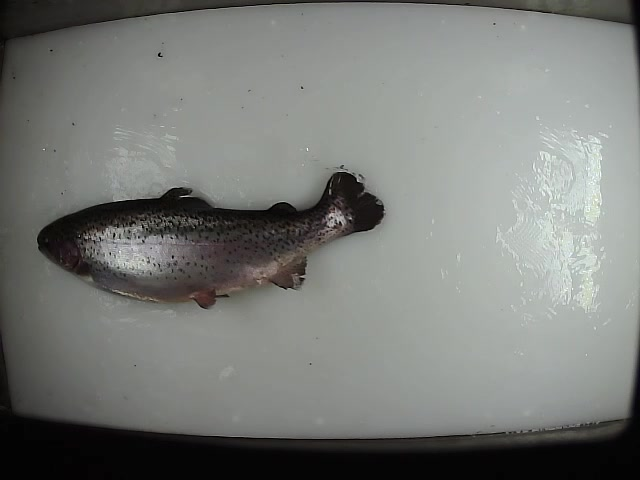Fish: (36, 171, 385, 309)
